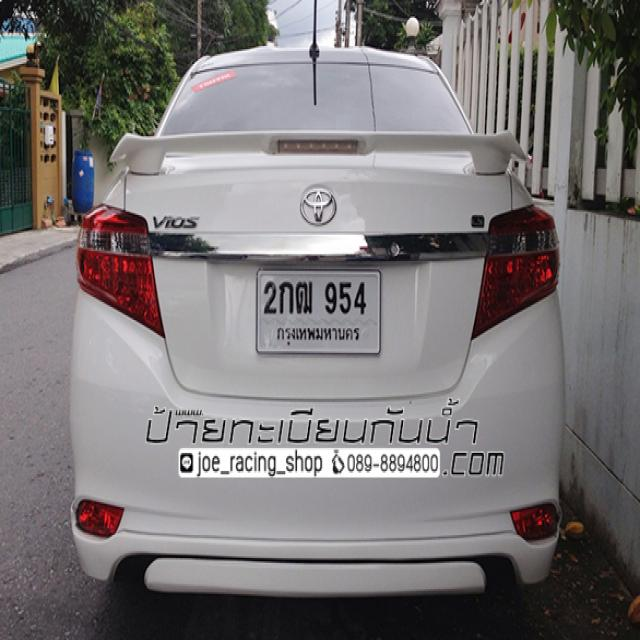license_plate: (251, 262, 387, 363)
